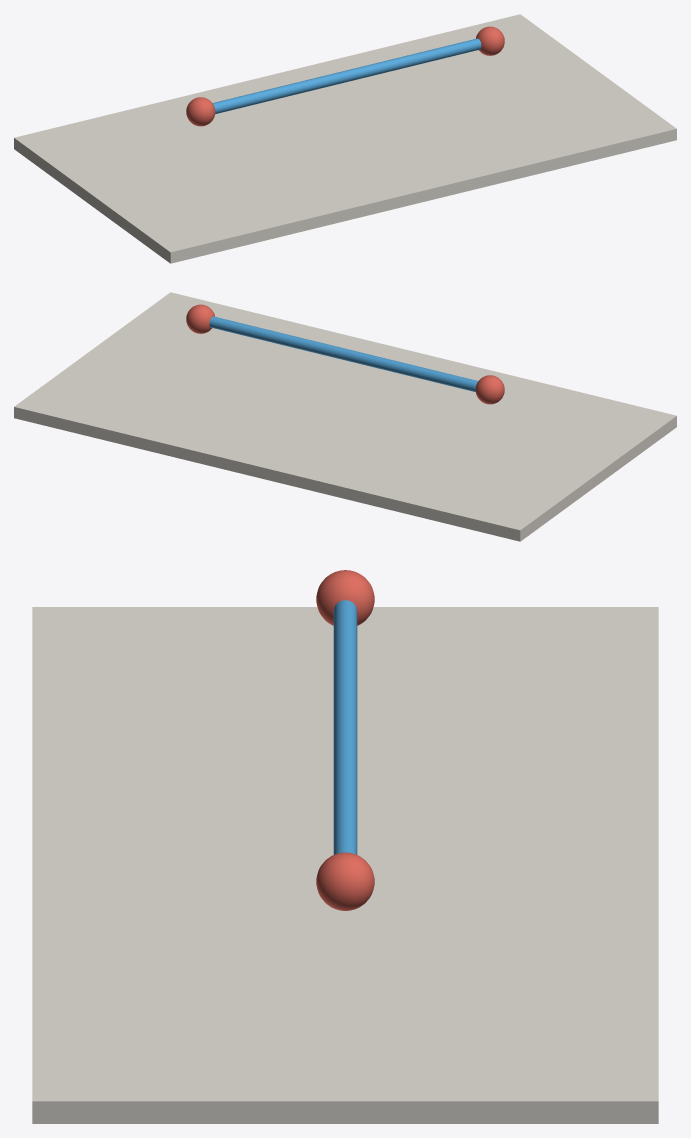
The model's file is math-geometry-segment.glb.
The picture shows the model from 3 angles, top to bottom: view 1: azimuth 30°, elevation 25°; view 2: azimuth 150°, elevation 25°; view 3: azimuth 270°, elevation 25°; orthographic projection. The views are drawn at different scales.
Parts seen in each view (by area): view 1: manipulative-base, fixed-segment, endpoint-a, endpoint-b; view 2: manipulative-base, fixed-segment, endpoint-a, endpoint-b; view 3: manipulative-base, fixed-segment, endpoint-b, endpoint-a.
Part boxes in pixels (left/top/right/bottom): manipulative-base: left=14, top=14, right=676, bottom=263; fixed-segment: left=212, top=38, right=481, bottom=113; endpoint-a: left=186, top=97, right=215, bottom=126; endpoint-b: left=476, top=26, right=504, bottom=55; manipulative-base: left=14, top=292, right=676, bottom=541; fixed-segment: left=209, top=316, right=478, bottom=391; endpoint-a: left=475, top=375, right=504, bottom=404; endpoint-b: left=186, top=304, right=214, bottom=333; manipulative-base: left=32, top=607, right=658, bottom=1123; fixed-segment: left=333, top=600, right=357, bottom=854; endpoint-b: left=316, top=852, right=374, bottom=910; endpoint-a: left=316, top=570, right=374, bottom=625.
Size of what is drawn, in the model's own units: 2.8 by 0.43 by 1.5.
